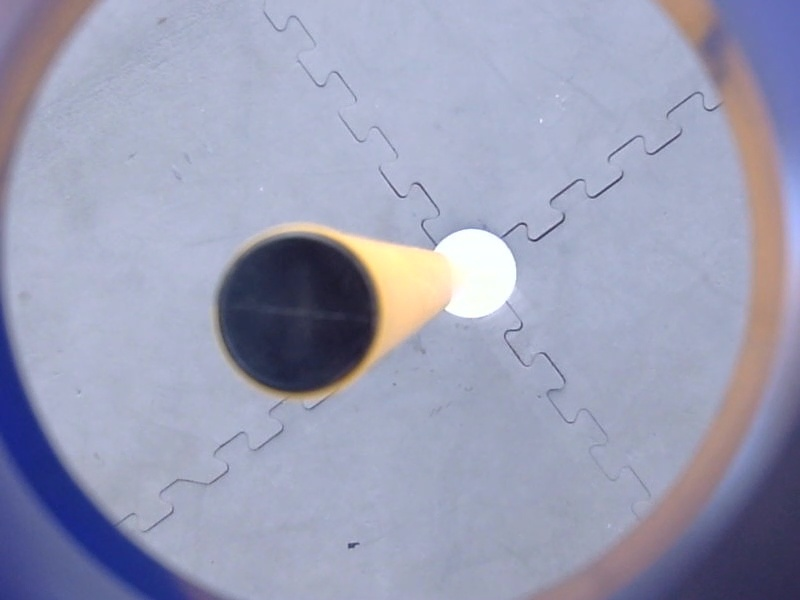tip: (204, 218, 390, 407)
